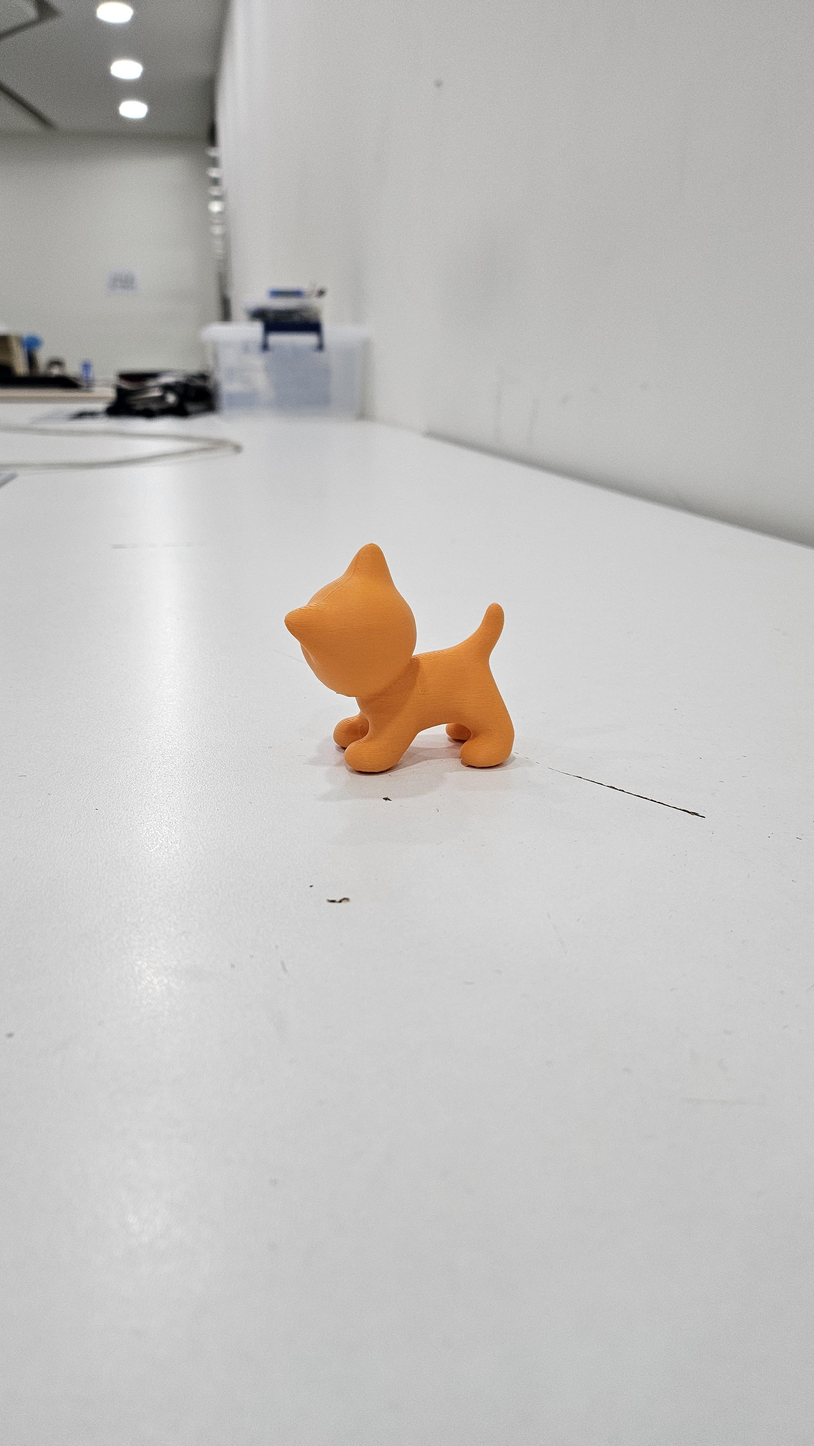cat: (278, 537, 520, 779)
